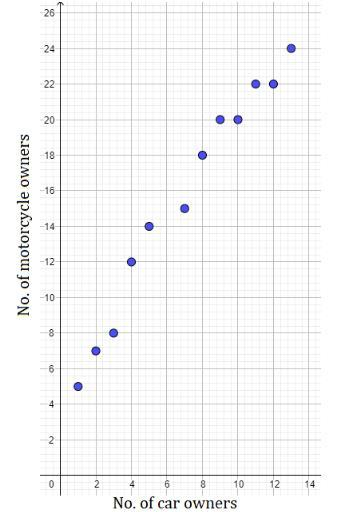axis: (53, 1, 67, 484), (57, 471, 326, 486)
point: (284, 41, 298, 55), (268, 77, 280, 90), (213, 113, 226, 125), (196, 149, 208, 161), (90, 345, 102, 357), (249, 78, 262, 89), (233, 113, 244, 125), (179, 203, 191, 214), (73, 381, 85, 392), (144, 221, 155, 232), (126, 256, 137, 267), (108, 328, 120, 338)
